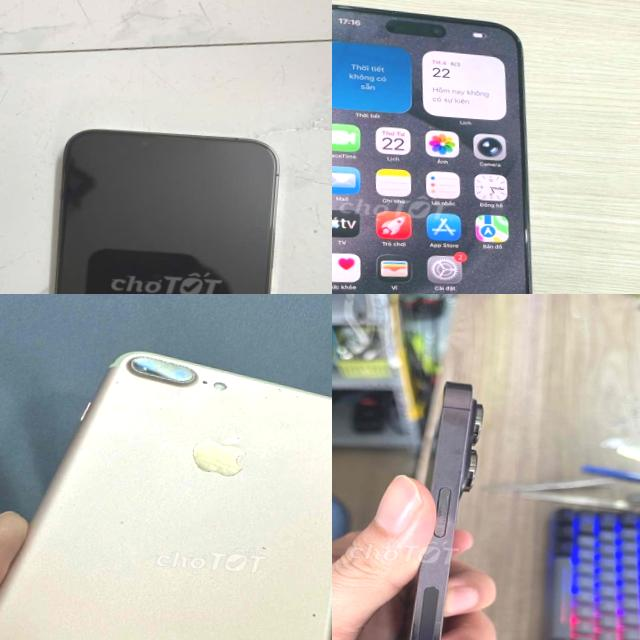gen_12_13: (33, 122, 291, 294)
gen_14: (354, 364, 491, 640)
gen_15: (332, 0, 577, 294)
gen_7_8: (0, 332, 332, 640)
scratch: (111, 351, 201, 393), (247, 380, 301, 406), (97, 508, 132, 530), (311, 504, 332, 528), (253, 542, 276, 555), (308, 608, 326, 620)
